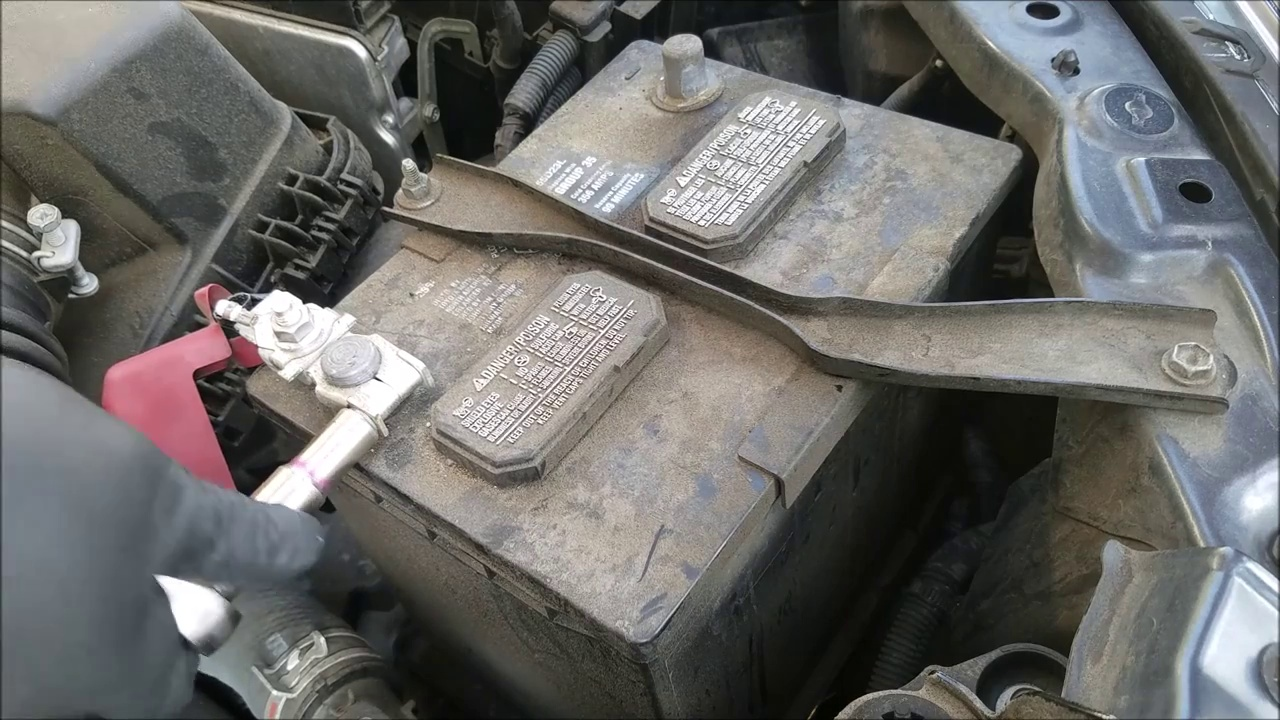battery: (221, 39, 1027, 641)
neg_disconnected: (615, 22, 763, 132)
pos_connected: (119, 271, 455, 436)
